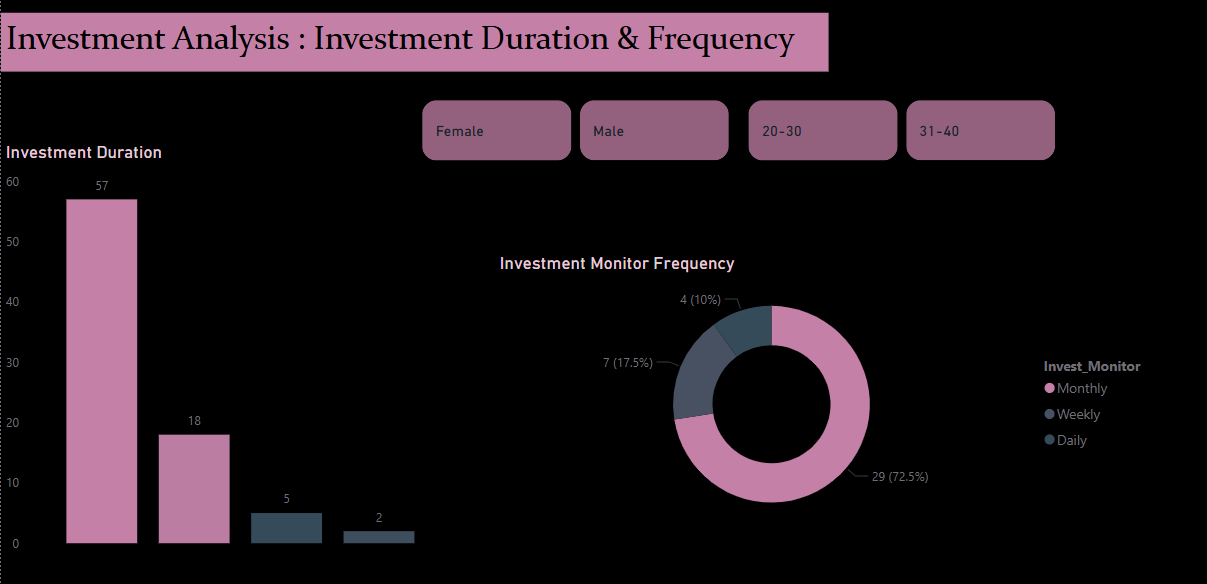

The page's visual inventory and layout, read from the dashboard file:
{"tool":"powerbi","page":{"name":"Investment duration and Frequency","canvas":[1280,720],"ordinal":3},"visuals":[{"type":"donutChart","title":" Investment Monitor Frequency","fields":{"Category":["POWER BI COGNIFZY.Invest_Monitor"],"Y":["CountNonNull(POWER BI COGNIFZY.Invest_Monitor)"]},"box":[483,262.9,651.8,277.6],"z":0},{"type":"clusteredColumnChart","title":"Investment Duration","fields":{"Category":["POWER BI COGNIFZY.Duration start","POWER BI COGNIFZY.Duration end"],"Y":["Sum(POWER BI COGNIFZY.Duration start)"]},"box":[0,154.1,448.8,407.2],"z":1000},{"type":"textbox","box":[0,28.1,809.5,57.5],"z":2000},{"type":"advancedSlicerVisual","fields":{"Values":["POWER BI COGNIFZY.Age group"]},"box":[726,109,310,69],"z":3000},{"type":"advancedSlicerVisual","fields":{"Values":["POWER BI COGNIFZY.gender"]},"box":[407,109,310,69],"z":4000}]}

Visuals, with their boxes on the page's 1280x720 design canvas (x1, y1, x2, y2). These are canvas units, not pixel positions in the 1207x584 screenshot, which may show the page scaled, cropped or inside an application window:
" Investment Monitor Frequency" donutChart: [483,263,1135,540]
"Investment Duration" clusteredColumnChart: [0,154,449,561]
textbox: [0,28,810,86]
advancedSlicerVisual - POWER BI COGNIFZY.Age group: [726,109,1036,178]
advancedSlicerVisual - POWER BI COGNIFZY.gender: [407,109,717,178]
